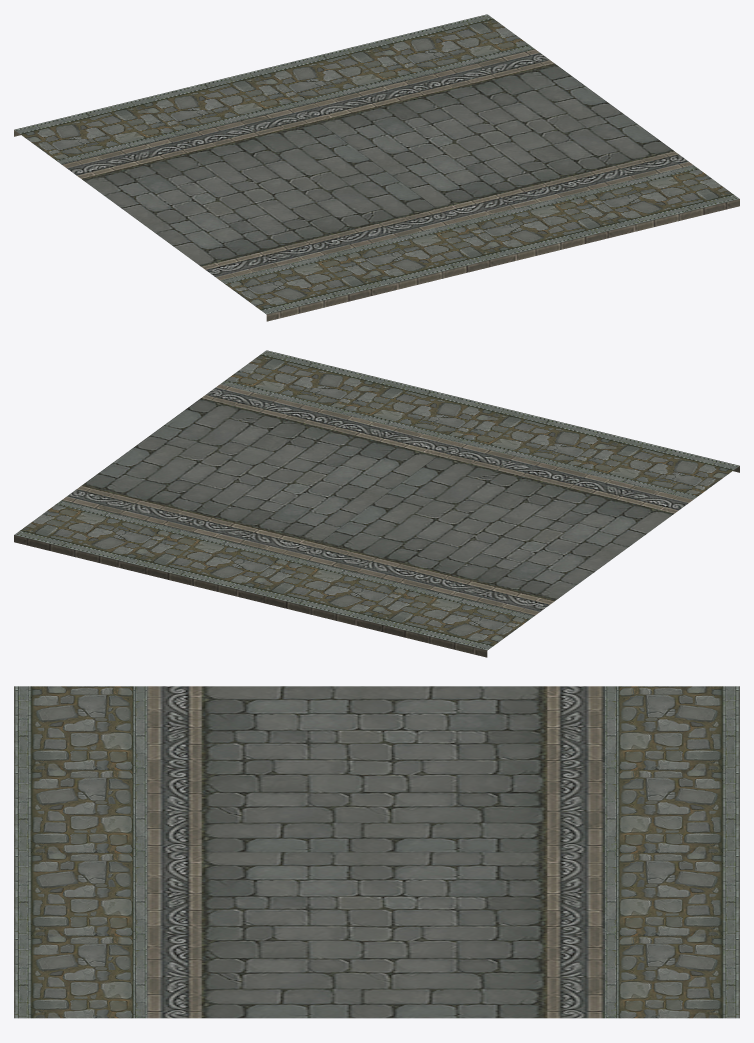
Rendered from zc_long12.FBX.
3 renders of one model, top to bottom at view 1: azimuth 30°, elevation 25°; view 2: azimuth 150°, elevation 25°; view 3: azimuth 270°, elevation 25°, orthographic. The views are drawn at different scales.
Parts seen in each view (by area): view 1: qx_zhucheng_dimian_d; view 2: qx_zhucheng_dimian_d; view 3: qx_zhucheng_dimian_d.
Part boxes in pixels (x1,y1,x2,y2): qx_zhucheng_dimian_d: [14, 14, 739, 321]; qx_zhucheng_dimian_d: [14, 350, 739, 657]; qx_zhucheng_dimian_d: [14, 686, 739, 1018].
Size of the model in its own units: 0.3458 by 0.005 by 0.3195.
